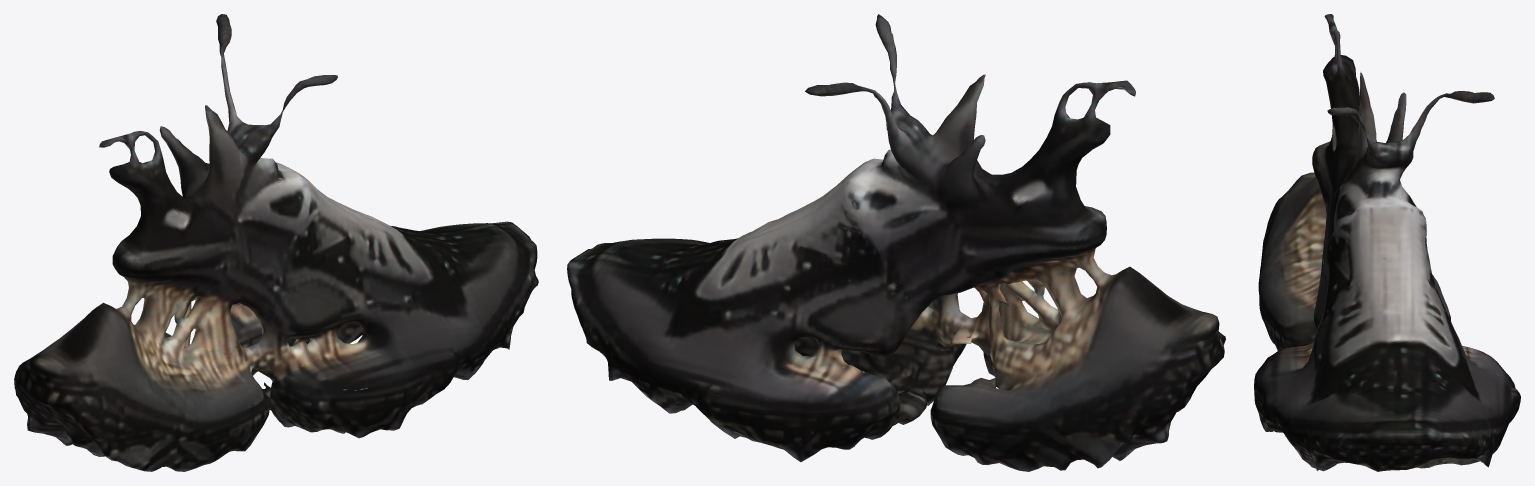
Rendered from zapatox1.glb.
3 renders of one model, left to right at view 1: azimuth 30°, elevation 25°; view 2: azimuth 150°, elevation 25°; view 3: azimuth 270°, elevation 25°, orthographic. The views are drawn at different scales.
Parts seen in each view (by area): view 1: mesh; view 2: mesh; view 3: mesh.
Part boxes in pixels (x1,y1,x2,y2): mesh: [14, 14, 538, 471]; mesh: [567, 14, 1225, 471]; mesh: [1254, 14, 1520, 471].
Bounding box in the file's own units: 1.88 × 1.17 × 0.8776.
Materials: 1 (1 with a texture image).
